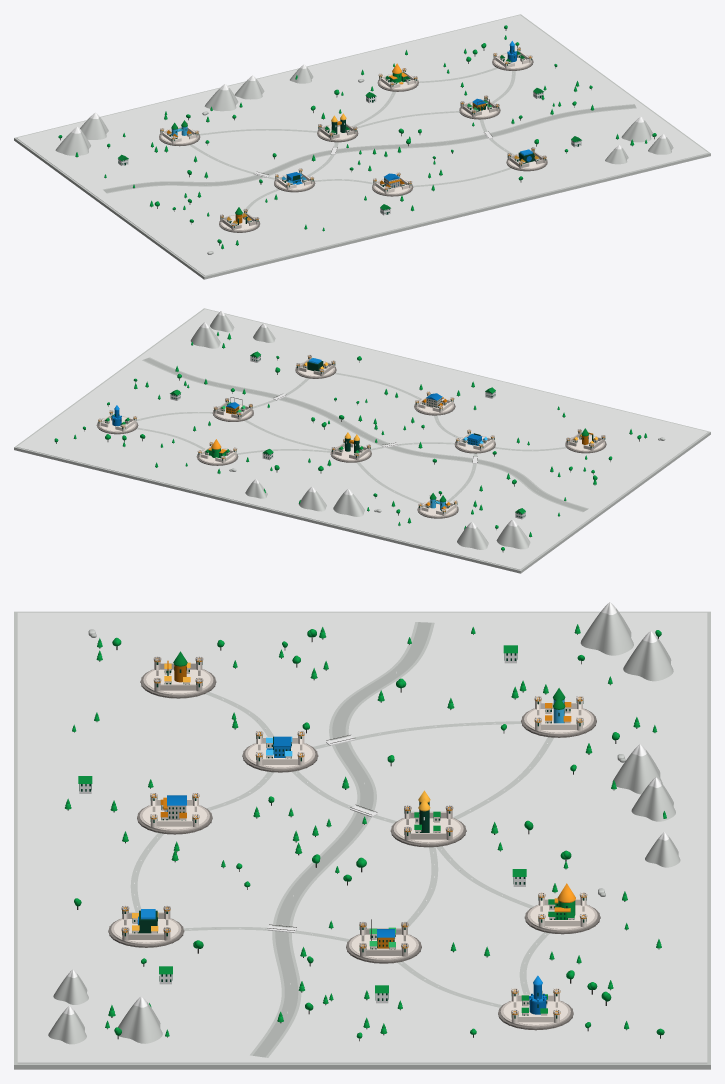
The model's file is map_landscape.glb.
3 renders of one model, top to bottom at view 1: azimuth 30°, elevation 25°; view 2: azimuth 150°, elevation 25°; view 3: azimuth 270°, elevation 25°, orthographic. The views are drawn at different scales.
Parts seen in each view (by area): view 1: 0_map-surface-ground, 0_map-base-stone, 0_river-water-darkgrey, 0_river-bank-stone, 115_smooth-mountain_stone, 117_smooth-mountain_stone, 120_smooth-mountain_stone, 116_smooth-mountain_stone, 118_smooth-mountain_stone; view 2: 0_map-surface-ground, 0_map-base-stone, 0_river-water-darkgrey, 0_river-bank-stone, 115_smooth-mountain_stone, 117_smooth-mountain_stone, 116_smooth-mountain_stone, 120_smooth-mountain_stone; view 3: 0_map-surface-ground, 0_map-base-stone, 0_river-water-darkgrey, 0_river-bank-stone, 115_smooth-mountain_stone, 116_smooth-mountain_stone, 117_smooth-mountain_stone, 120_smooth-mountain_stone, 118_smooth-mountain_stone, 121_smooth-mountain_stone, 119_smooth-mountain_stone, 122_smooth-mountain_stone.
Boxes of the visible parts, x1=… form: 0_map-surface-ground: x1=17, y1=15, x2=707, y2=275; 0_map-base-stone: x1=14, y1=14, x2=710, y2=279; 0_river-water-darkgrey: x1=103, y1=104, x2=636, y2=192; 0_river-bank-stone: x1=103, y1=104, x2=636, y2=193; 115_smooth-mountain_stone: x1=55, y1=131, x2=90, y2=155; 117_smooth-mountain_stone: x1=204, y1=88, x2=238, y2=111; 120_smooth-mountain_stone: x1=621, y1=120, x2=652, y2=142; 116_smooth-mountain_stone: x1=80, y1=116, x2=108, y2=139; 118_smooth-mountain_stone: x1=235, y1=79, x2=264, y2=99; 0_map-surface-ground: x1=17, y1=309, x2=707, y2=569; 0_map-base-stone: x1=14, y1=308, x2=710, y2=573; 0_river-water-darkgrey: x1=143, y1=358, x2=587, y2=511; 0_river-bank-stone: x1=142, y1=357, x2=588, y2=512; 115_smooth-mountain_stone: x1=496, y1=524, x2=530, y2=549; 117_smooth-mountain_stone: x1=333, y1=493, x2=364, y2=516; 116_smooth-mountain_stone: x1=457, y1=526, x2=488, y2=549; 120_smooth-mountain_stone: x1=190, y1=326, x2=220, y2=348; 0_map-surface-ground: x1=17, y1=612, x2=707, y2=1063; 0_map-base-stone: x1=14, y1=611, x2=710, y2=1069; 0_river-water-darkgrey: x1=253, y1=622, x2=431, y2=1057; 0_river-bank-stone: x1=250, y1=622, x2=434, y2=1057; 115_smooth-mountain_stone: x1=580, y1=608, x2=633, y2=655; 116_smooth-mountain_stone: x1=623, y1=636, x2=673, y2=681; 117_smooth-mountain_stone: x1=612, y1=750, x2=662, y2=794; 120_smooth-mountain_stone: x1=118, y1=1002, x2=162, y2=1043; 118_smooth-mountain_stone: x1=631, y1=782, x2=675, y2=821; 121_smooth-mountain_stone: x1=48, y1=1010, x2=86, y2=1044; 119_smooth-mountain_stone: x1=645, y1=836, x2=680, y2=867; 122_smooth-mountain_stone: x1=53, y1=974, x2=88, y2=1004.
Size of the model in its own units: 600 by 28.6 by 390.
